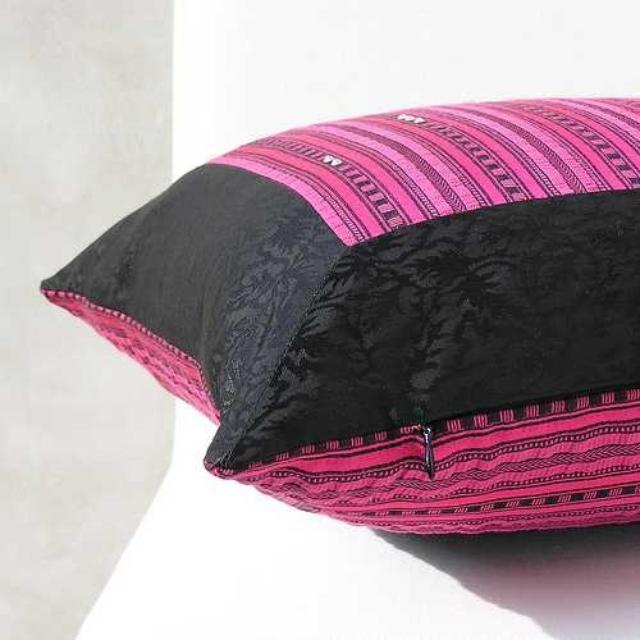pillow: (39, 93, 639, 534)
